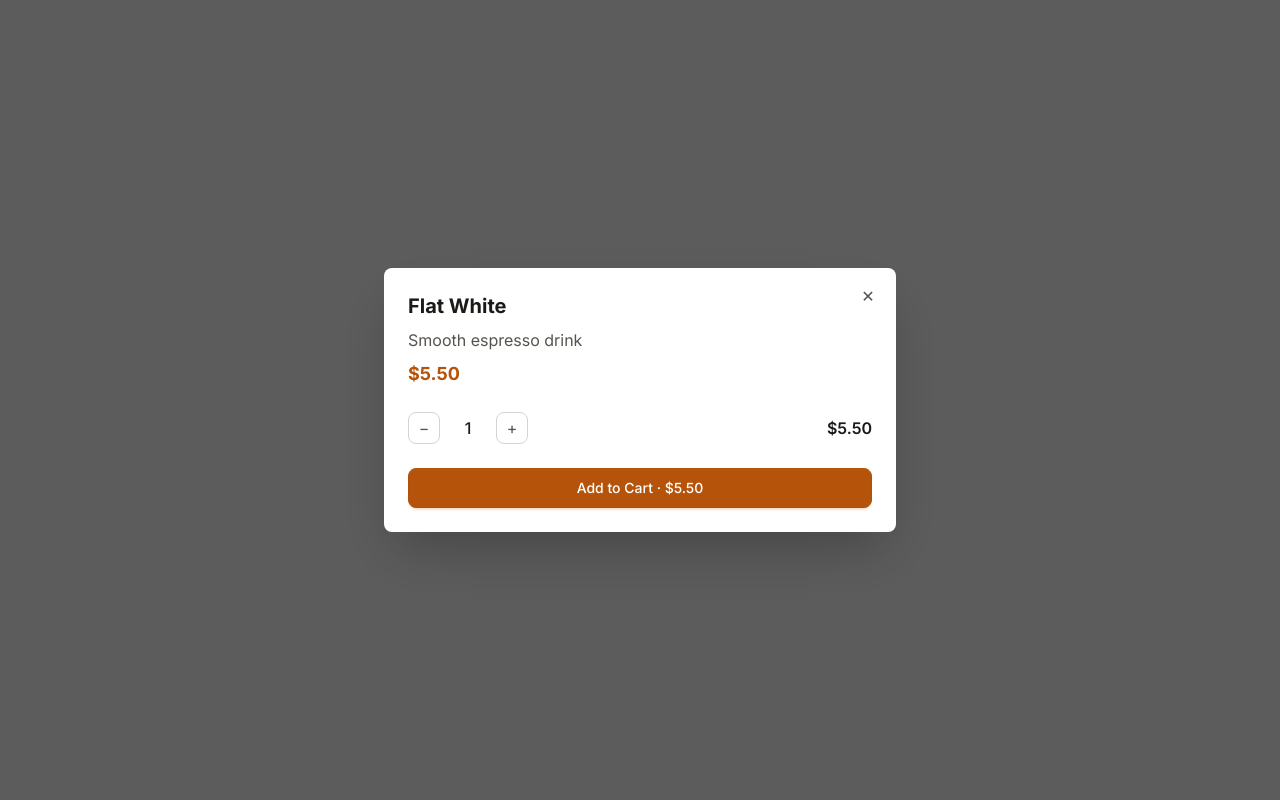
MenuItemDetail › increments quantity when + is clicked
Click the button "+" at {"x": 512, "y": 428}, box [496,412,528,444]
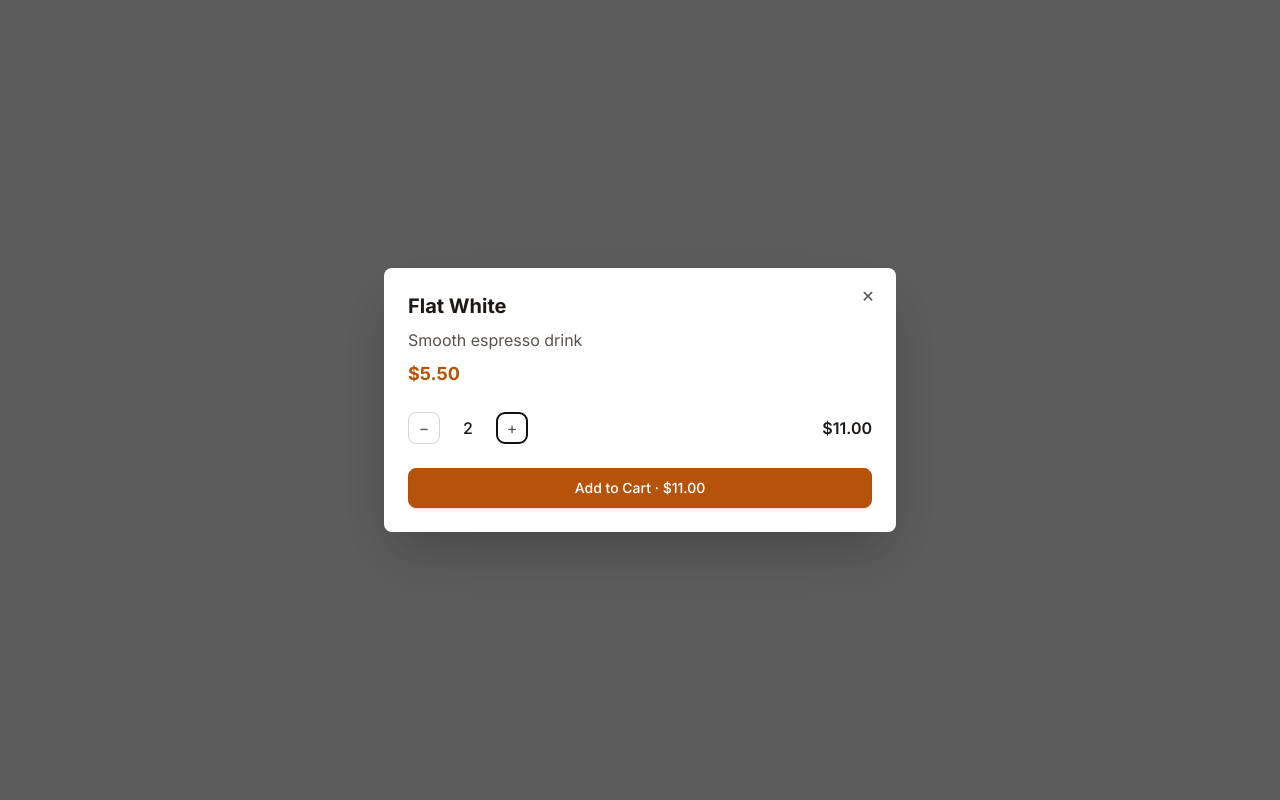
Expected: the text "2" is shown, [463,418,473,438]
